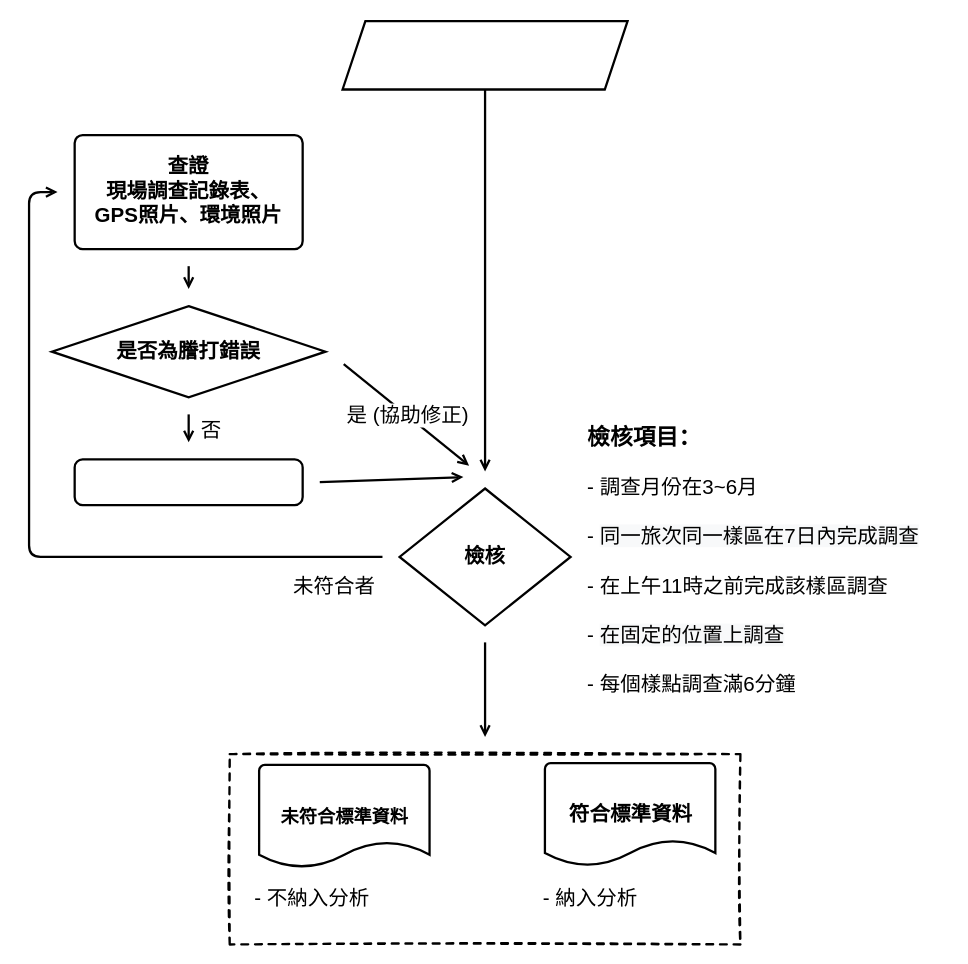
Some shapes in this 968 by 964 pixel diagram are drawn without their labels. The shapes that lost their labels are listed below. From the top down, each one's box as (x1, y1, x2, y2) in pixels, then its label:
(341, 19, 628, 90): 臺灣獼猴調查數據
(73, 458, 303, 506): 請調查員再確認
